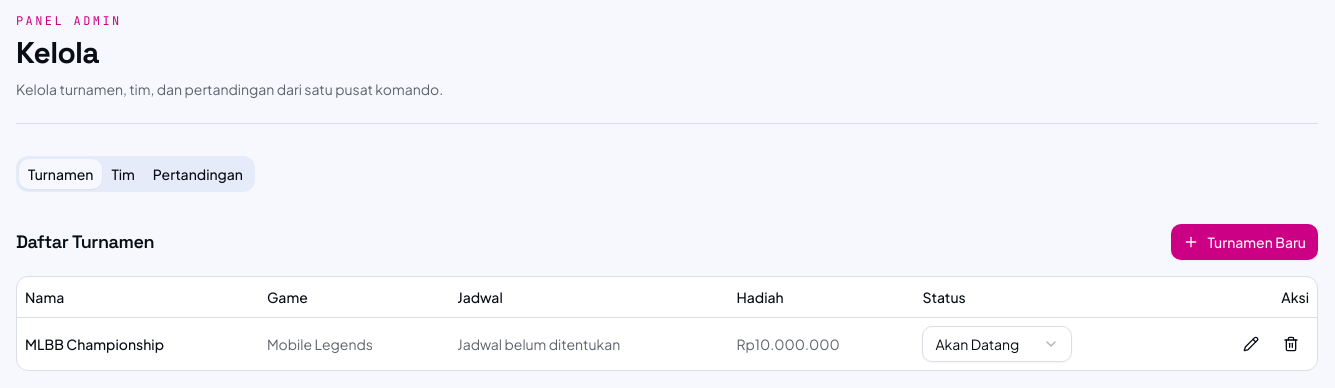
Test: gerbang halaman kelola › menampilkan panel kelola untuk admin
Expected: the button "Turnamen Baru" is shown, [1171,224,1318,260]
Expected: the text "MLBB Championship" is shown, [17,317,259,370]
# The team list lives on its own tab.
Click the tab "Tim".
click(123, 174)  # box [102,159,144,189]
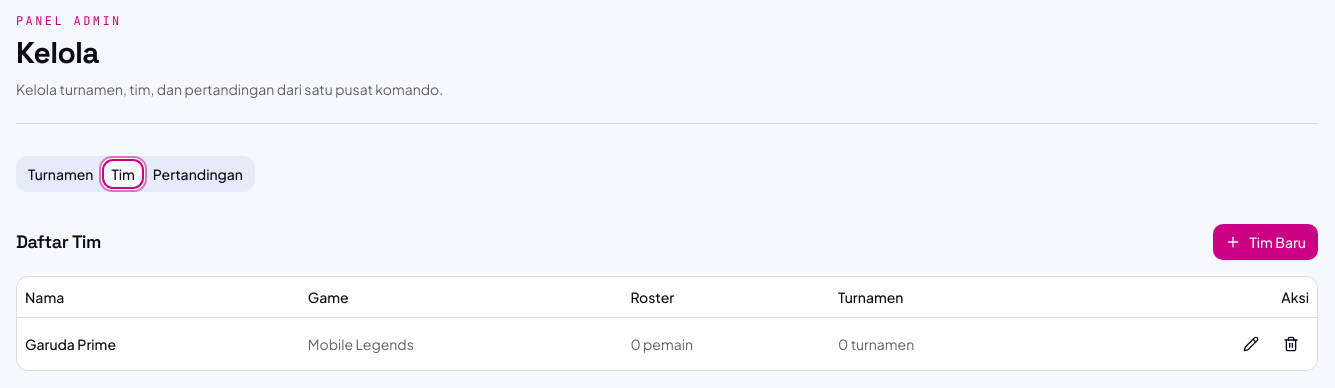
Expected: the text "Garuda Prime" is shown, [17,317,300,370]
